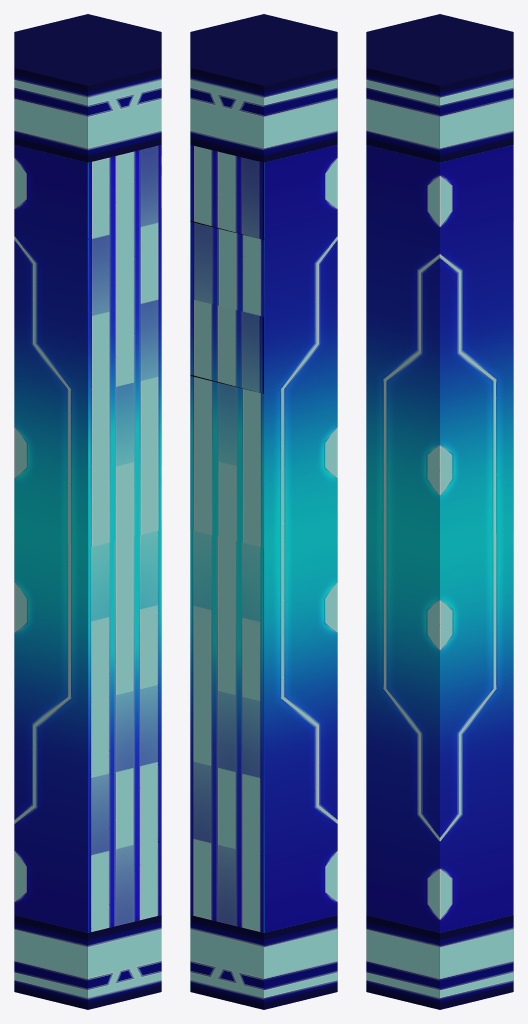
The model's file is PLAG_SimpleBldg_12.obj.
The picture shows the model from 3 angles, left to right: view 1: azimuth 30°, elevation 25°; view 2: azimuth 150°, elevation 25°; view 3: azimuth 270°, elevation 25°; orthographic projection.
Visible parts, largest first — view 1: PLAG_SimpleBldg_12; view 2: PLAG_SimpleBldg_12; view 3: PLAG_SimpleBldg_12.
Boxes of the visible parts, box(x1,y1,x2,y2) form: PLAG_SimpleBldg_12: box(14, 14, 161, 1009); PLAG_SimpleBldg_12: box(190, 14, 337, 1009); PLAG_SimpleBldg_12: box(366, 14, 513, 1009).
Size of the model in its own units: 200 by 1200 by 173.
